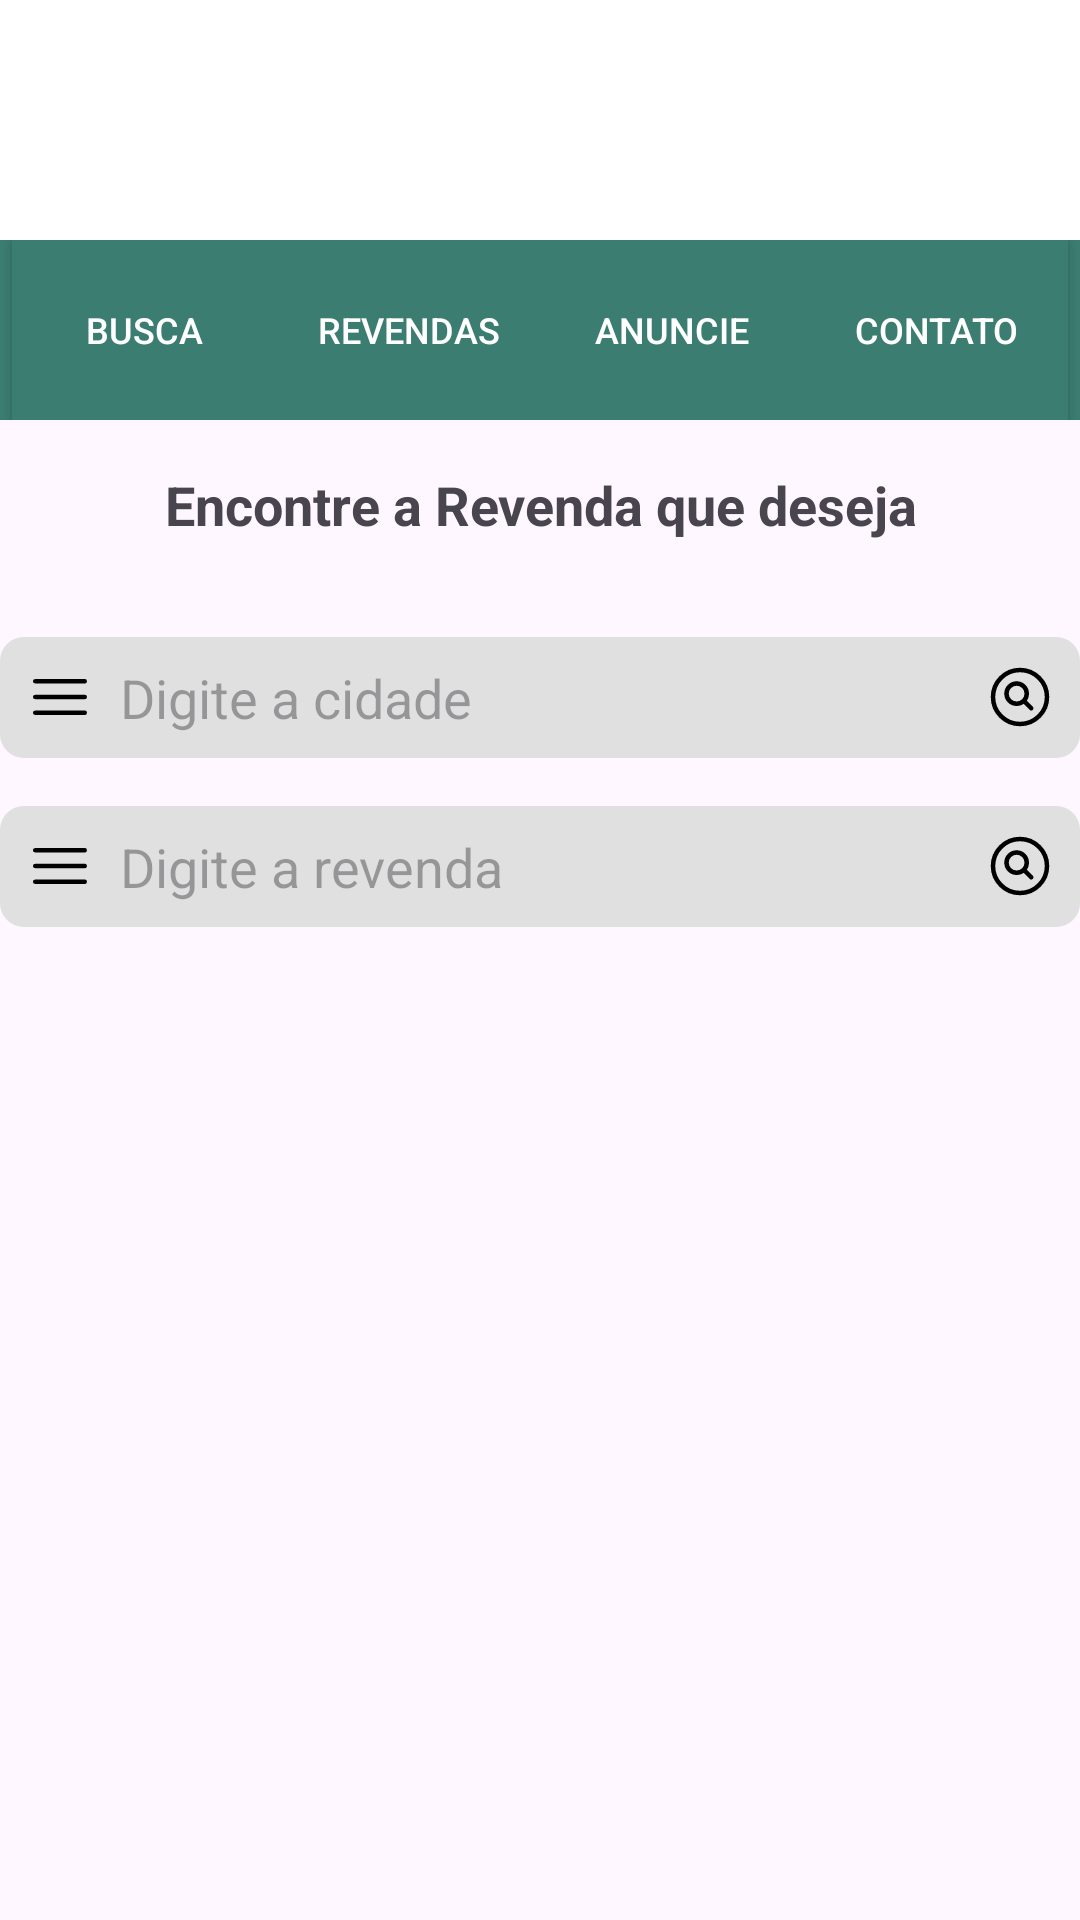

Icon click points for this 1080 x 1920 phone screenshot, format point (x, y):
search: point (1020, 697), point (1020, 866)
